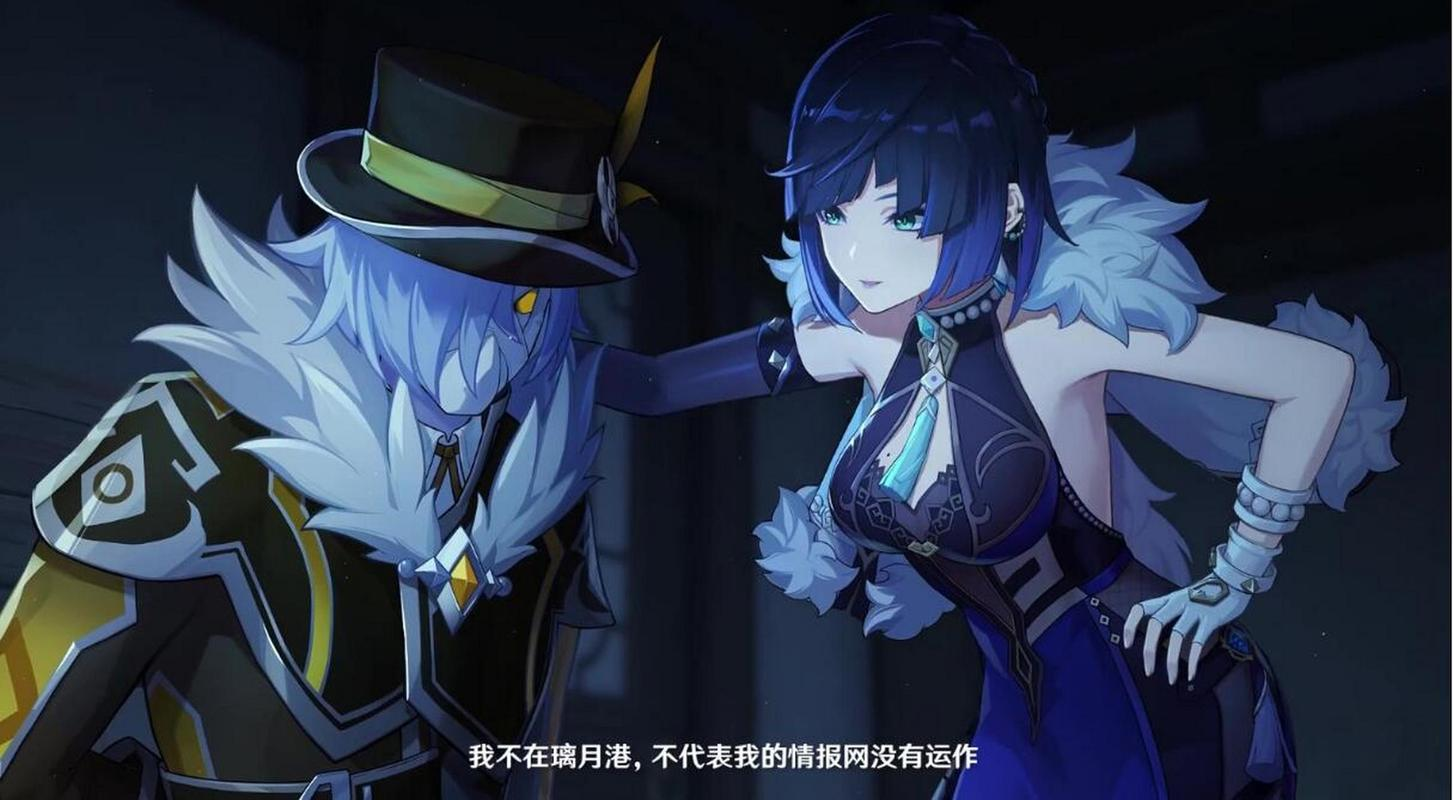夜兰: (584, 43, 1364, 779)
